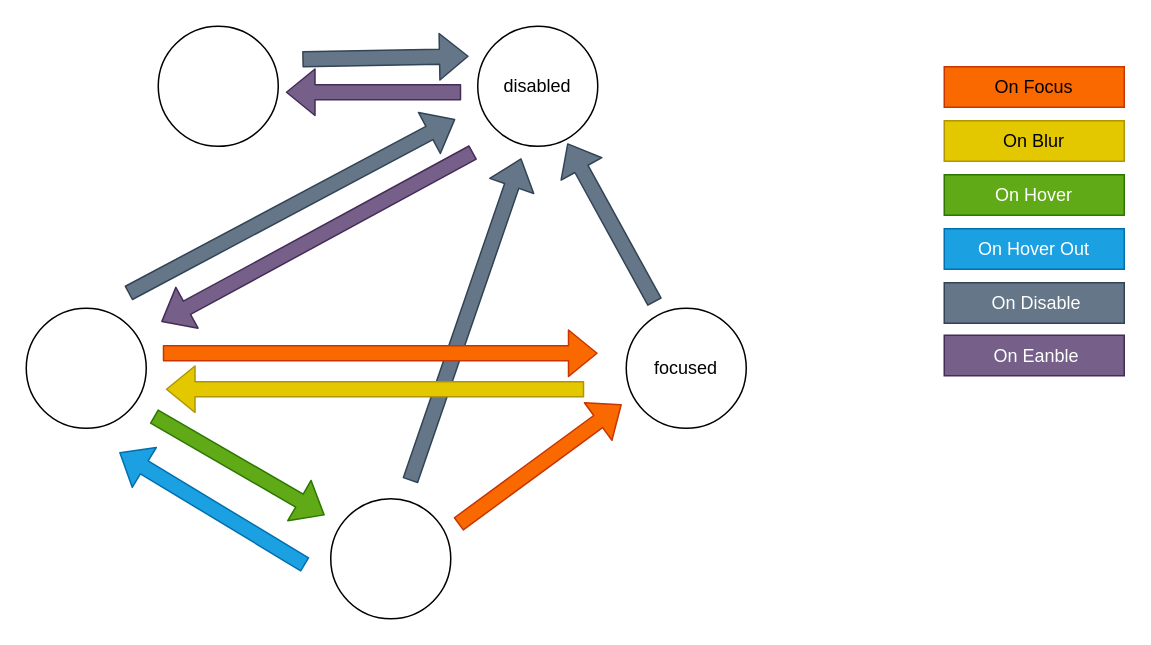
This 1151x645 diagram has some shape labels left out. Here are the shapes that lost their labels. From the top down, the centre of each, then its label:
the point at 217,85: error
the point at 85,367: unfocused
the point at 390,558: hovered
